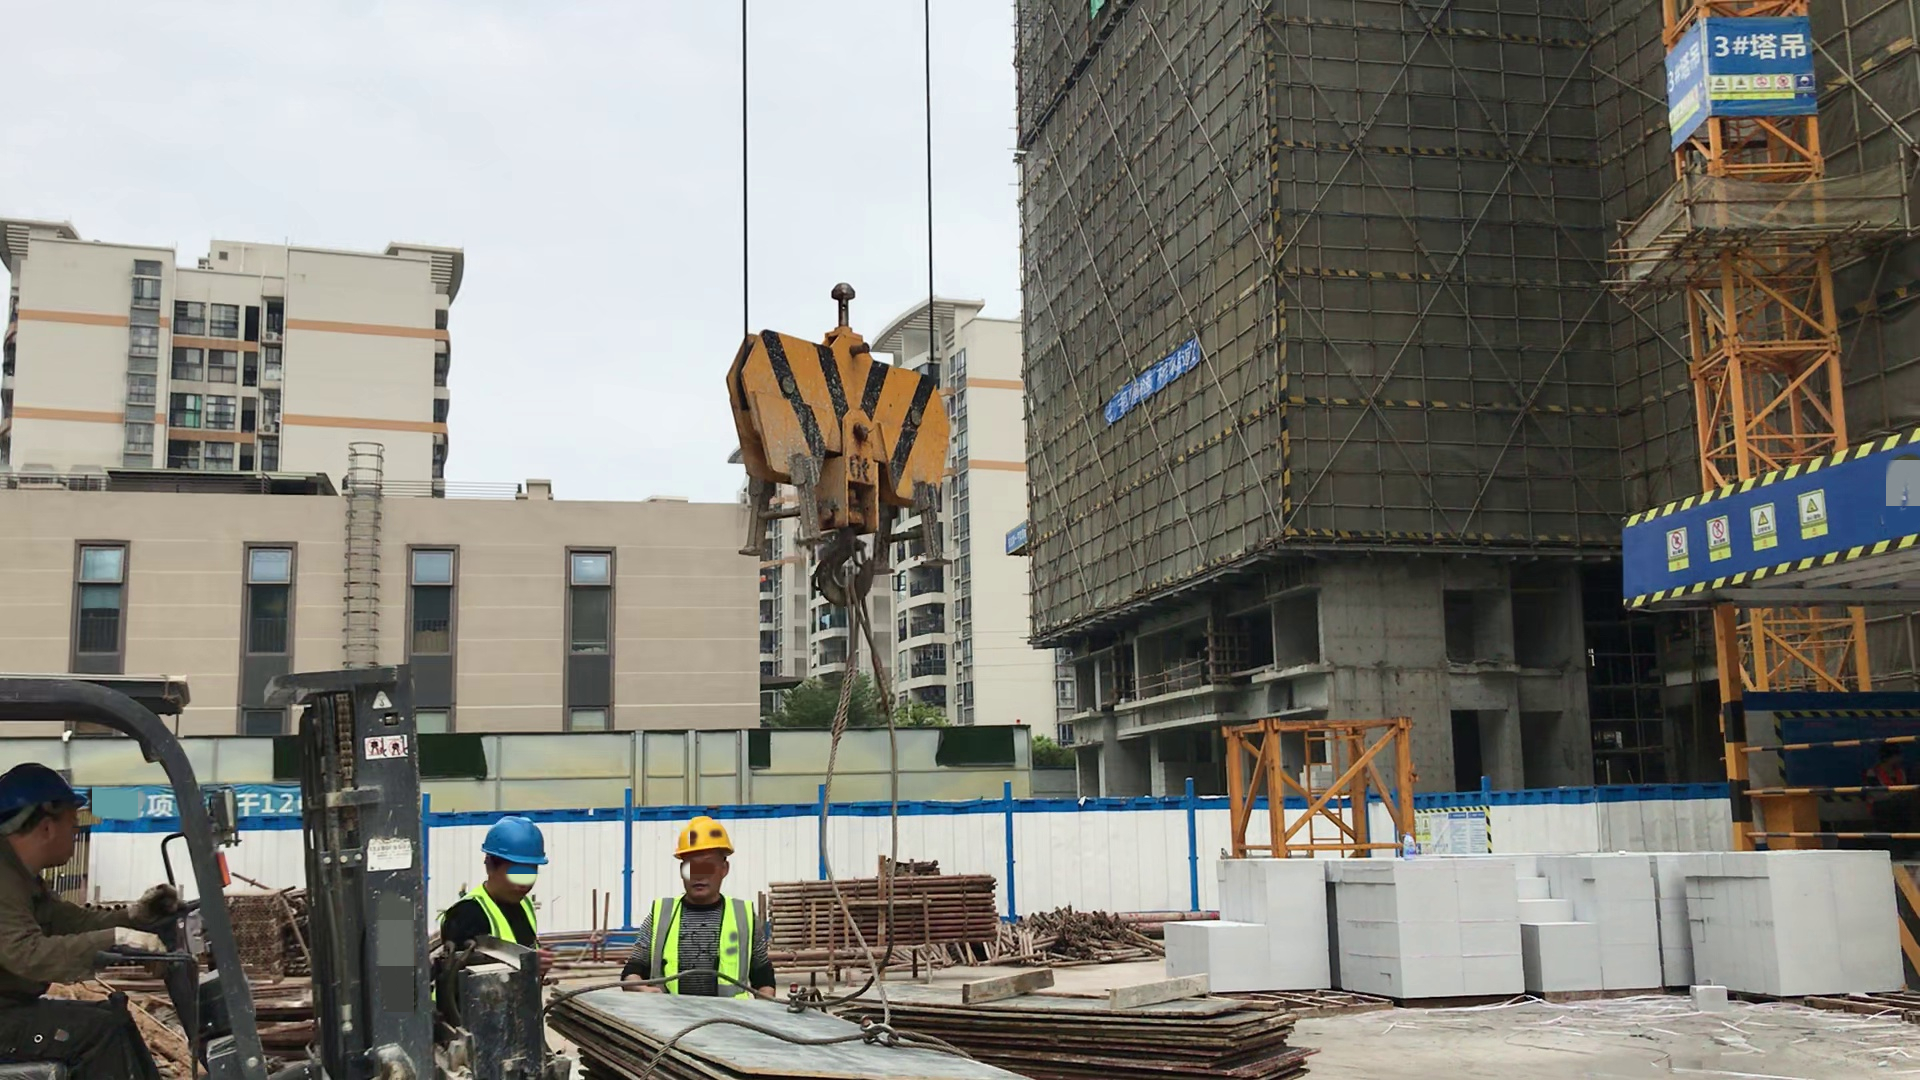board: (553, 987, 1027, 1080), (882, 989, 1308, 1080)
brick: (1678, 833, 1907, 1004), (1324, 850, 1533, 1004), (1170, 841, 1324, 986), (1537, 834, 1656, 1007)
helmet: (1, 767, 88, 832), (470, 813, 558, 867), (670, 816, 743, 858)
hook: (716, 263, 950, 570)
person: (1, 767, 210, 1048), (623, 805, 779, 1013), (433, 809, 574, 1030)
scaffold: (764, 882, 993, 946)
slogan: (1111, 349, 1204, 420), (144, 784, 300, 826)
vest: (652, 894, 755, 992), (452, 888, 544, 956)
